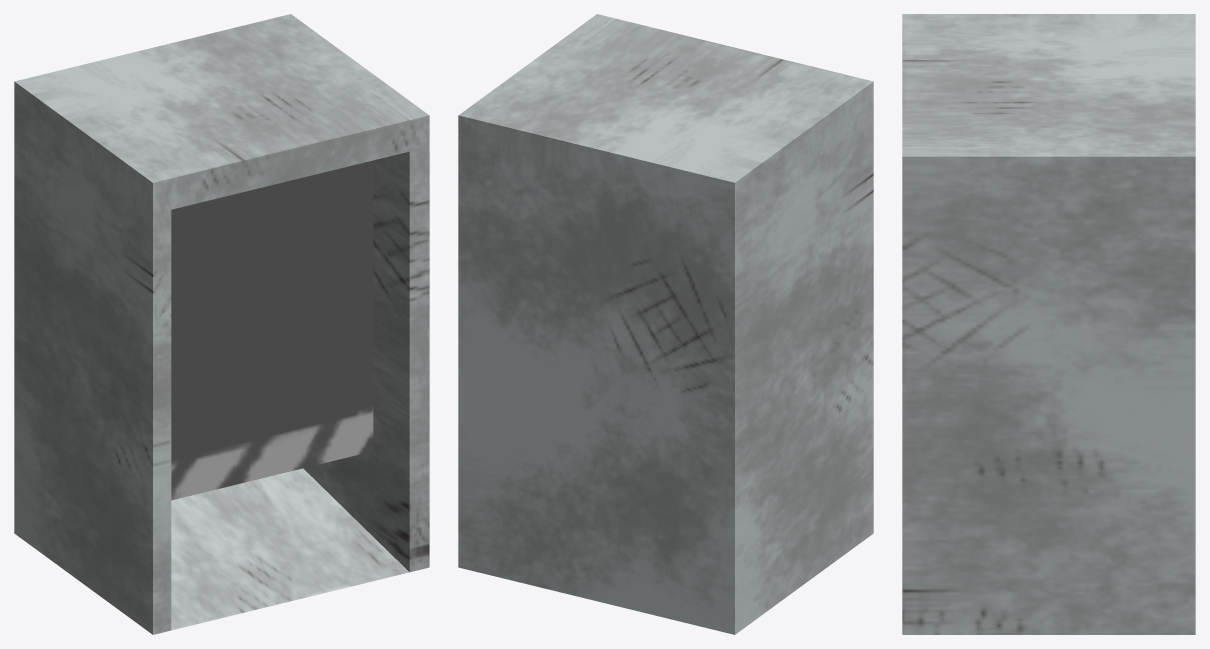
The model's file is GON-door-idleOPEN.fbx.
3 renders of one model, left to right at view 1: azimuth 30°, elevation 25°; view 2: azimuth 150°, elevation 25°; view 3: azimuth 270°, elevation 25°, orthographic. The views are drawn at different scales.
Visible parts, largest first — view 1: door_frame, door; view 2: door_frame; view 3: door_frame.
Boxes of the visible parts, x1,y1,x2,y2 form: door_frame: (14, 14, 429, 634); door: (171, 160, 373, 500); door_frame: (458, 14, 873, 634); door_frame: (902, 14, 1195, 634).
Size of the model in its own units: 93.56 by 146 by 81.21.
Materials: 2 (2 with a texture image).
